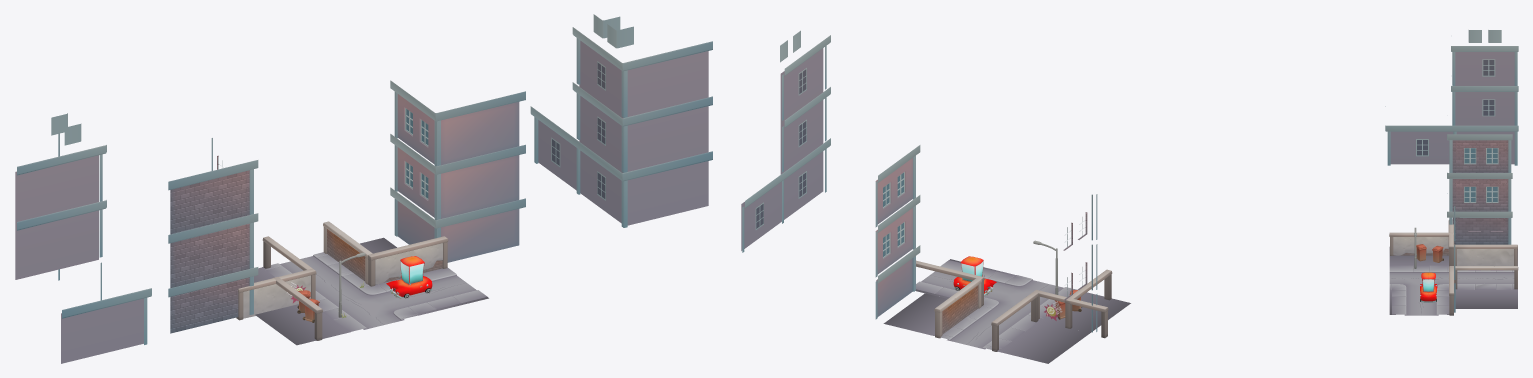
Rendered from UrbanRoadTSection.prefab.glb.
3 views of the same model, side by side, from view 1: azimuth 30°, elevation 25°; view 2: azimuth 150°, elevation 25°; view 3: azimuth 270°, elevation 25° (orthographic). The views are drawn at different scales.
Parts seen in each view (by area): view 1: FarBackBuilding02, BackgroundBuilding01, BackgroundBuilding02, UrbanRoadTSection, Road02, PlasteredWall02 (1), PlasteredWall01 (1), BrickWall, Car2Body, PlasteredWall02, PlasteredWall01 (2); view 2: FarBackBuilding02, BackgroundBuilding01, Road02, UrbanRoadTSection, BrickWall, BackgroundBuilding02, PlasteredWall01 (2), PlasteredWall02, Car2Body, PlasteredWall01 (1), PlasteredWall02 (1); view 3: FarBackBuilding02, BackgroundBuilding02, UrbanRoadTSection, Road02, PlasteredWall01 (2), PlasteredWall02, Car2Body, BrickWall, PlasteredWall02 (1), BackgroundBuilding01, PlasteredWall01 (1), WheelyBinRed (+2 smaller).
Part boxes in pixels (bbox=[...]): FarBackBuilding02: bbox=[15, 14, 712, 363]; BackgroundBuilding01: bbox=[390, 80, 525, 262]; BackgroundBuilding02: bbox=[168, 138, 258, 333]; UrbanRoadTSection: bbox=[255, 268, 488, 345]; Road02: bbox=[254, 237, 396, 296]; PlasteredWall02 (1): bbox=[368, 236, 448, 286]; PlasteredWall01 (1): bbox=[236, 268, 316, 320]; BrickWall: bbox=[323, 221, 372, 284]; Car2Body: bbox=[386, 256, 432, 298]; PlasteredWall02: bbox=[273, 277, 322, 340]; PlasteredWall01 (2): bbox=[262, 236, 312, 270]; FarBackBuilding02: bbox=[741, 30, 830, 252]; BackgroundBuilding01: bbox=[875, 145, 920, 319]; Road02: bbox=[883, 293, 1089, 363]; UrbanRoadTSection: bbox=[916, 259, 1130, 333]; BrickWall: bbox=[934, 278, 981, 338]; BackgroundBuilding02: bbox=[1063, 194, 1097, 332]; PlasteredWall01 (2): bbox=[991, 292, 1038, 351]; PlasteredWall02: bbox=[1064, 269, 1112, 328]; Car2Body: bbox=[953, 256, 996, 295]; PlasteredWall01 (1): bbox=[1034, 289, 1108, 338]; PlasteredWall02 (1): bbox=[916, 260, 984, 306]; FarBackBuilding02: bbox=[1385, 30, 1518, 165]; BackgroundBuilding02: bbox=[1447, 134, 1512, 244]; UrbanRoadTSection: bbox=[1389, 247, 1453, 315]; Road02: bbox=[1455, 249, 1517, 308]; PlasteredWall01 (2): bbox=[1453, 244, 1517, 266]; PlasteredWall02: bbox=[1389, 232, 1453, 255]; Car2Body: bbox=[1420, 272, 1437, 302]; BrickWall: bbox=[1454, 266, 1518, 289]; PlasteredWall02 (1): bbox=[1449, 266, 1454, 315]; BackgroundBuilding01: bbox=[1454, 206, 1503, 312]; PlasteredWall01 (1): bbox=[1448, 219, 1454, 266]; WheelyBinRed: bbox=[1432, 245, 1443, 262].
Bounding box in the file's own units: 76.34 × 26.28 × 18.69.
6 materials, 5 textured.
